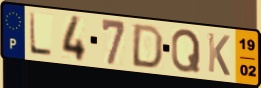4: (60, 13, 88, 63)
7: (100, 17, 127, 67)
D: (130, 22, 166, 70)
K: (207, 31, 232, 78)
L: (28, 11, 54, 59)
Q: (170, 28, 202, 74)
